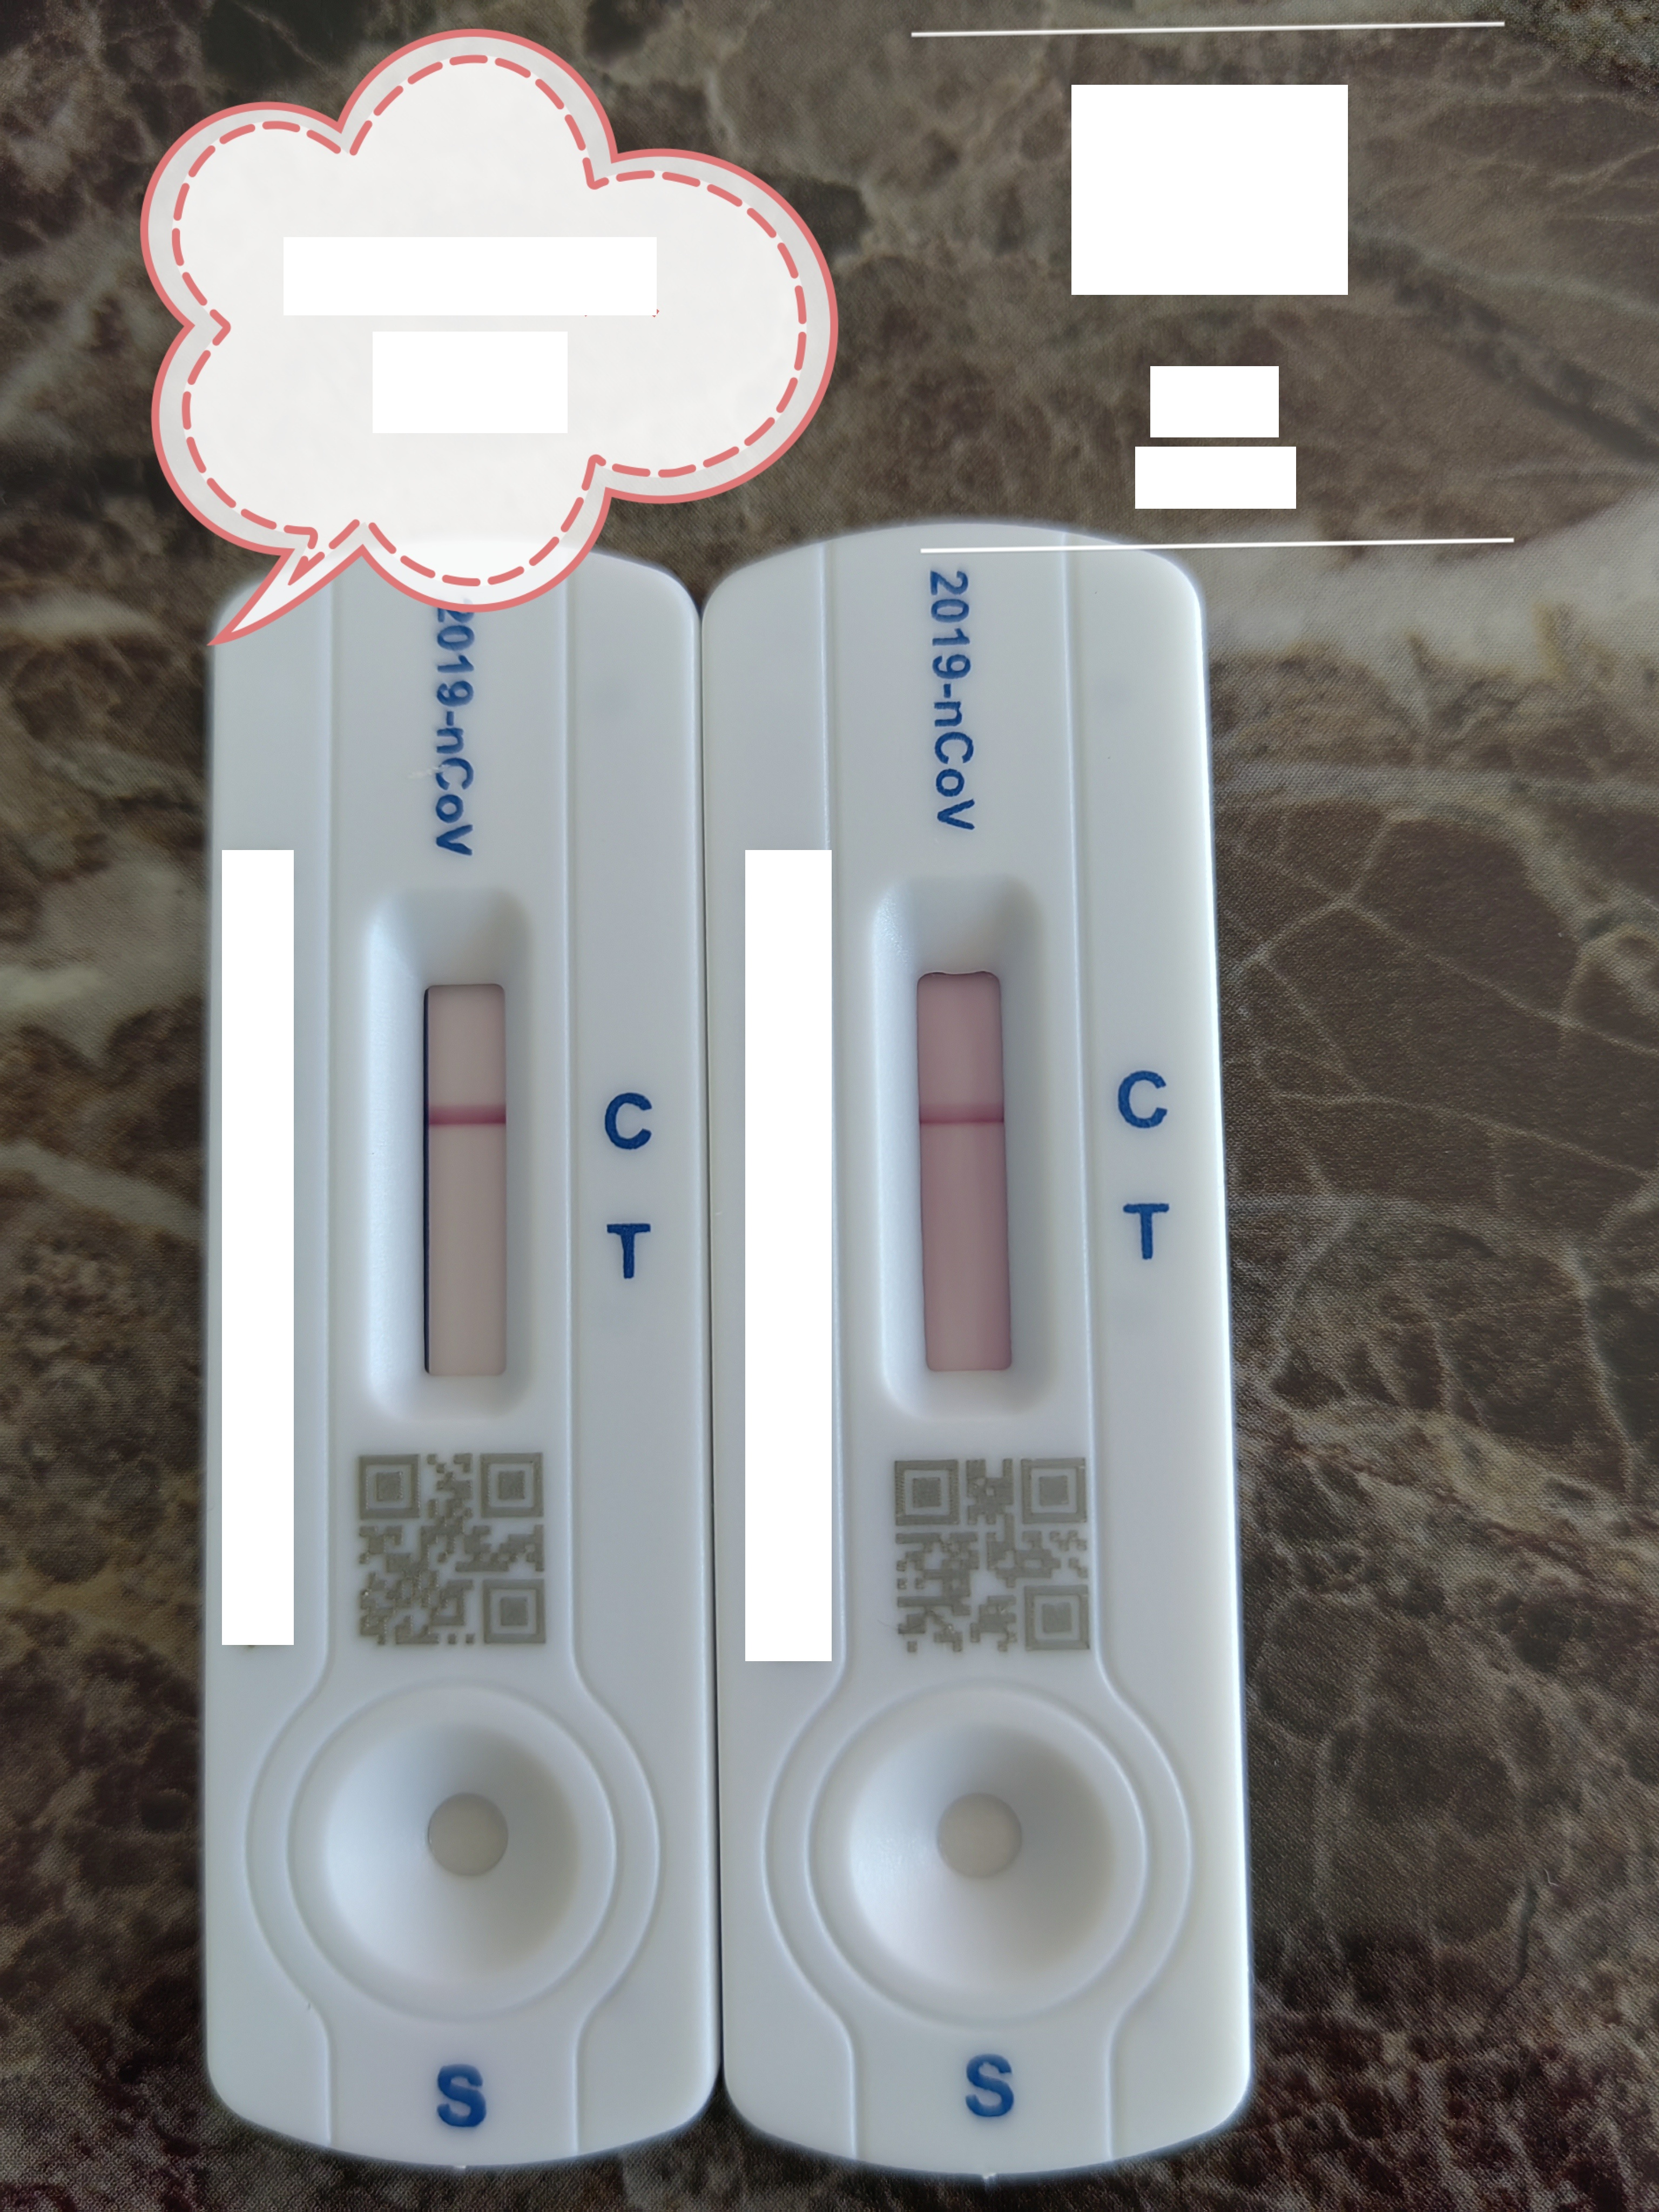negative: (383, 885, 526, 1433), (890, 894, 1032, 1430)
